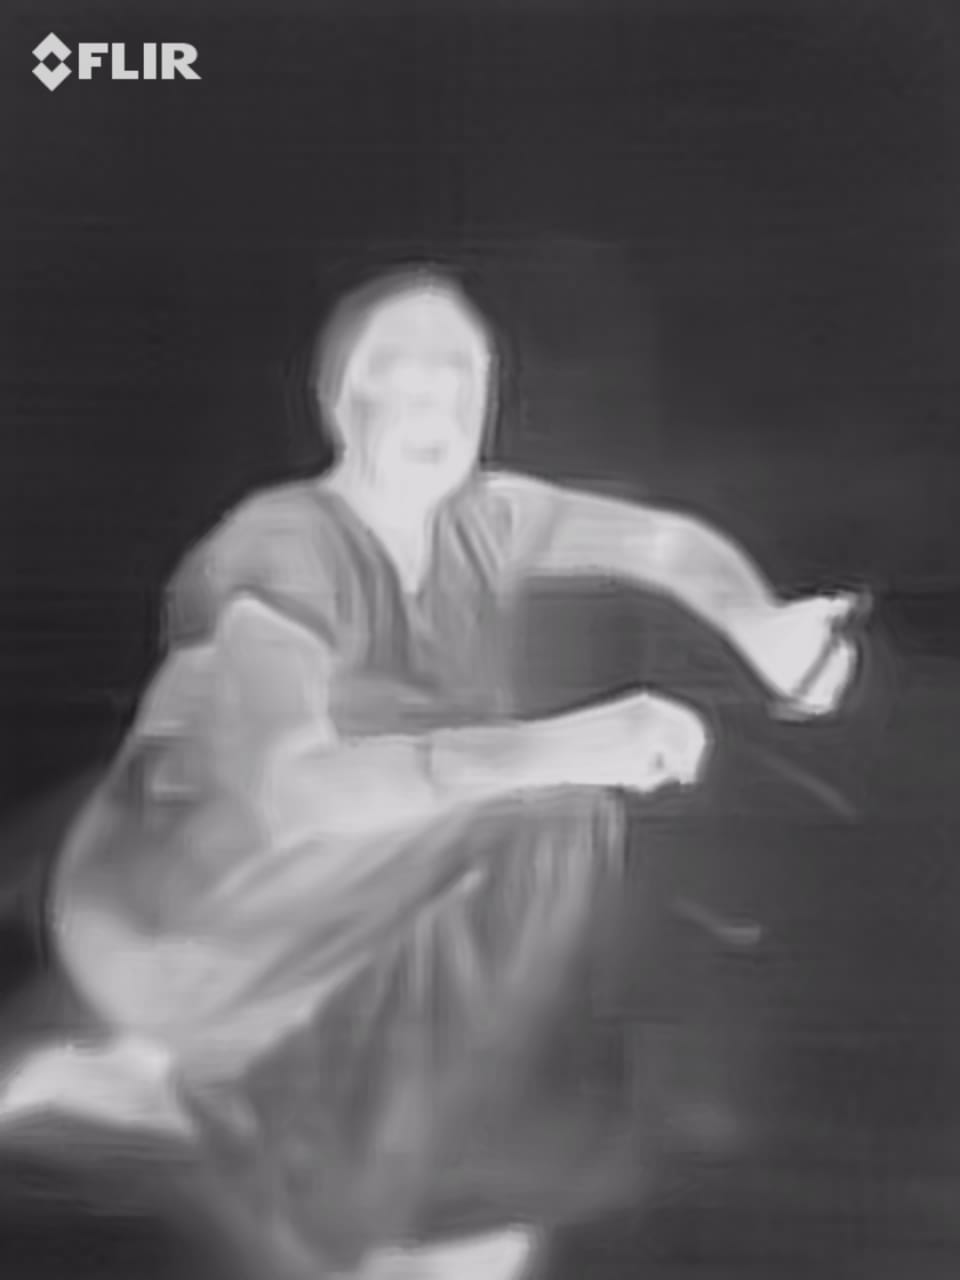head: (305, 260, 498, 530)
